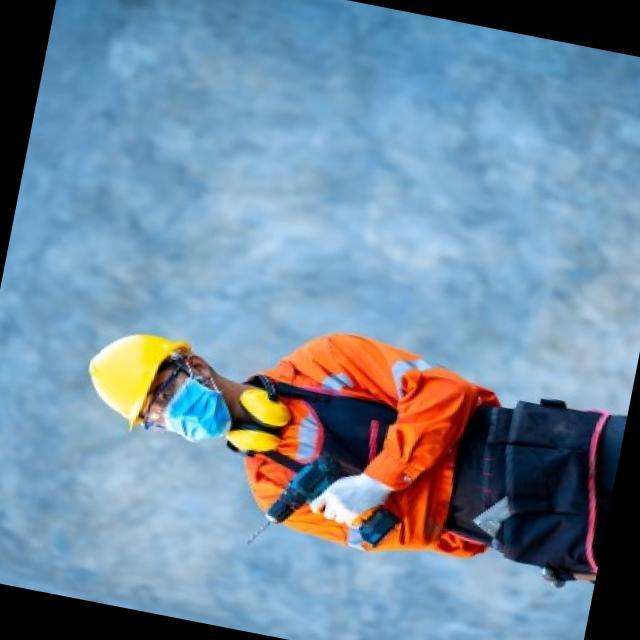gloved: (304, 464, 394, 532)
